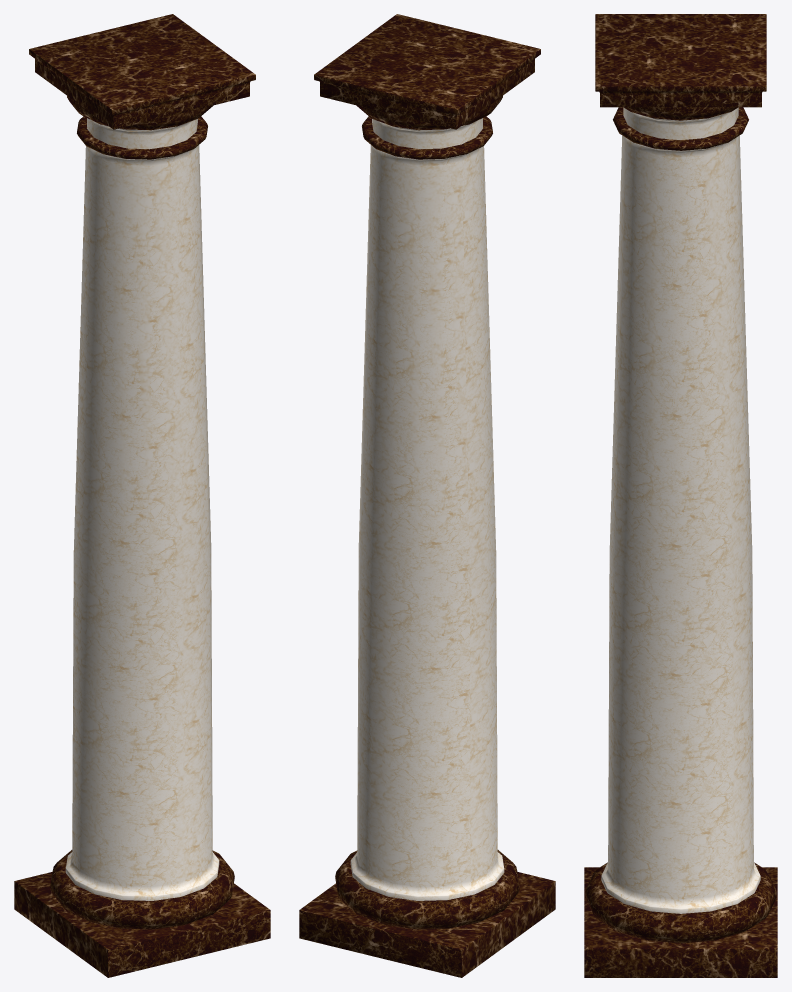
Rendered from tuscanColumn_marbleW.fbx.
3 renders of one model, left to right at view 1: azimuth 30°, elevation 25°; view 2: azimuth 150°, elevation 25°; view 3: azimuth 270°, elevation 25°, orthographic. The views are drawn at different scales.
Visible parts, largest first — view 1: shaft, abacus, plinth, torus, collarino, astragal, ovolo; view 2: shaft, abacus, plinth, torus, collarino, astragal, ovolo; view 3: shaft, abacus, plinth, torus, collarino, astragal, ovolo.
Boxes of the visible parts, x1,y1,x2,y2 form: shaft: [65, 145, 219, 900]; abacus: [29, 14, 255, 129]; plinth: [14, 872, 270, 977]; torus: [50, 850, 234, 929]; collarino: [87, 118, 197, 149]; astragal: [77, 116, 207, 159]; ovolo: [67, 96, 213, 130]; shaft: [350, 145, 504, 900]; abacus: [314, 14, 540, 129]; plinth: [299, 872, 555, 977]; torus: [335, 850, 519, 929]; collarino: [372, 118, 482, 149]; astragal: [362, 116, 492, 159]; ovolo: [356, 96, 502, 130]; shaft: [601, 135, 760, 913]; abacus: [595, 14, 766, 107]; plinth: [584, 867, 777, 977]; torus: [585, 862, 776, 943]; collarino: [623, 107, 738, 139]; astragal: [613, 107, 748, 150]; ovolo: [624, 107, 737, 120].
Size of the model in its own units: 1.8 by 9.1 by 1.8.
Materials: 2 (2 with a texture image).
